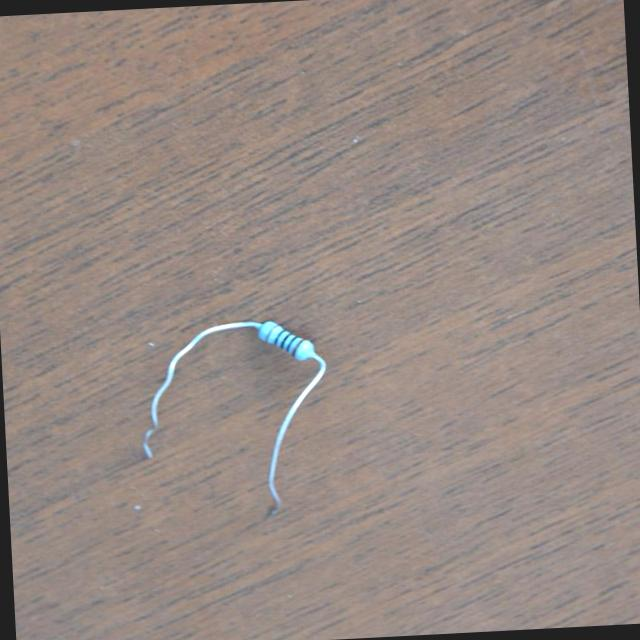Resistor: (254, 317, 316, 361)
